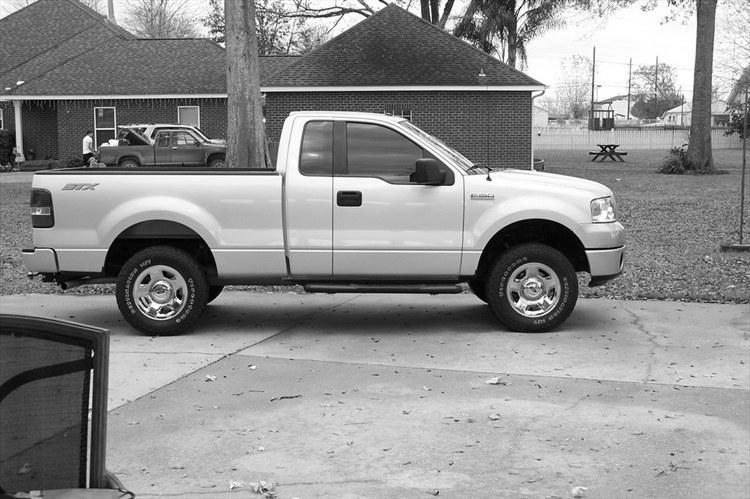car: (18, 107, 630, 340)
